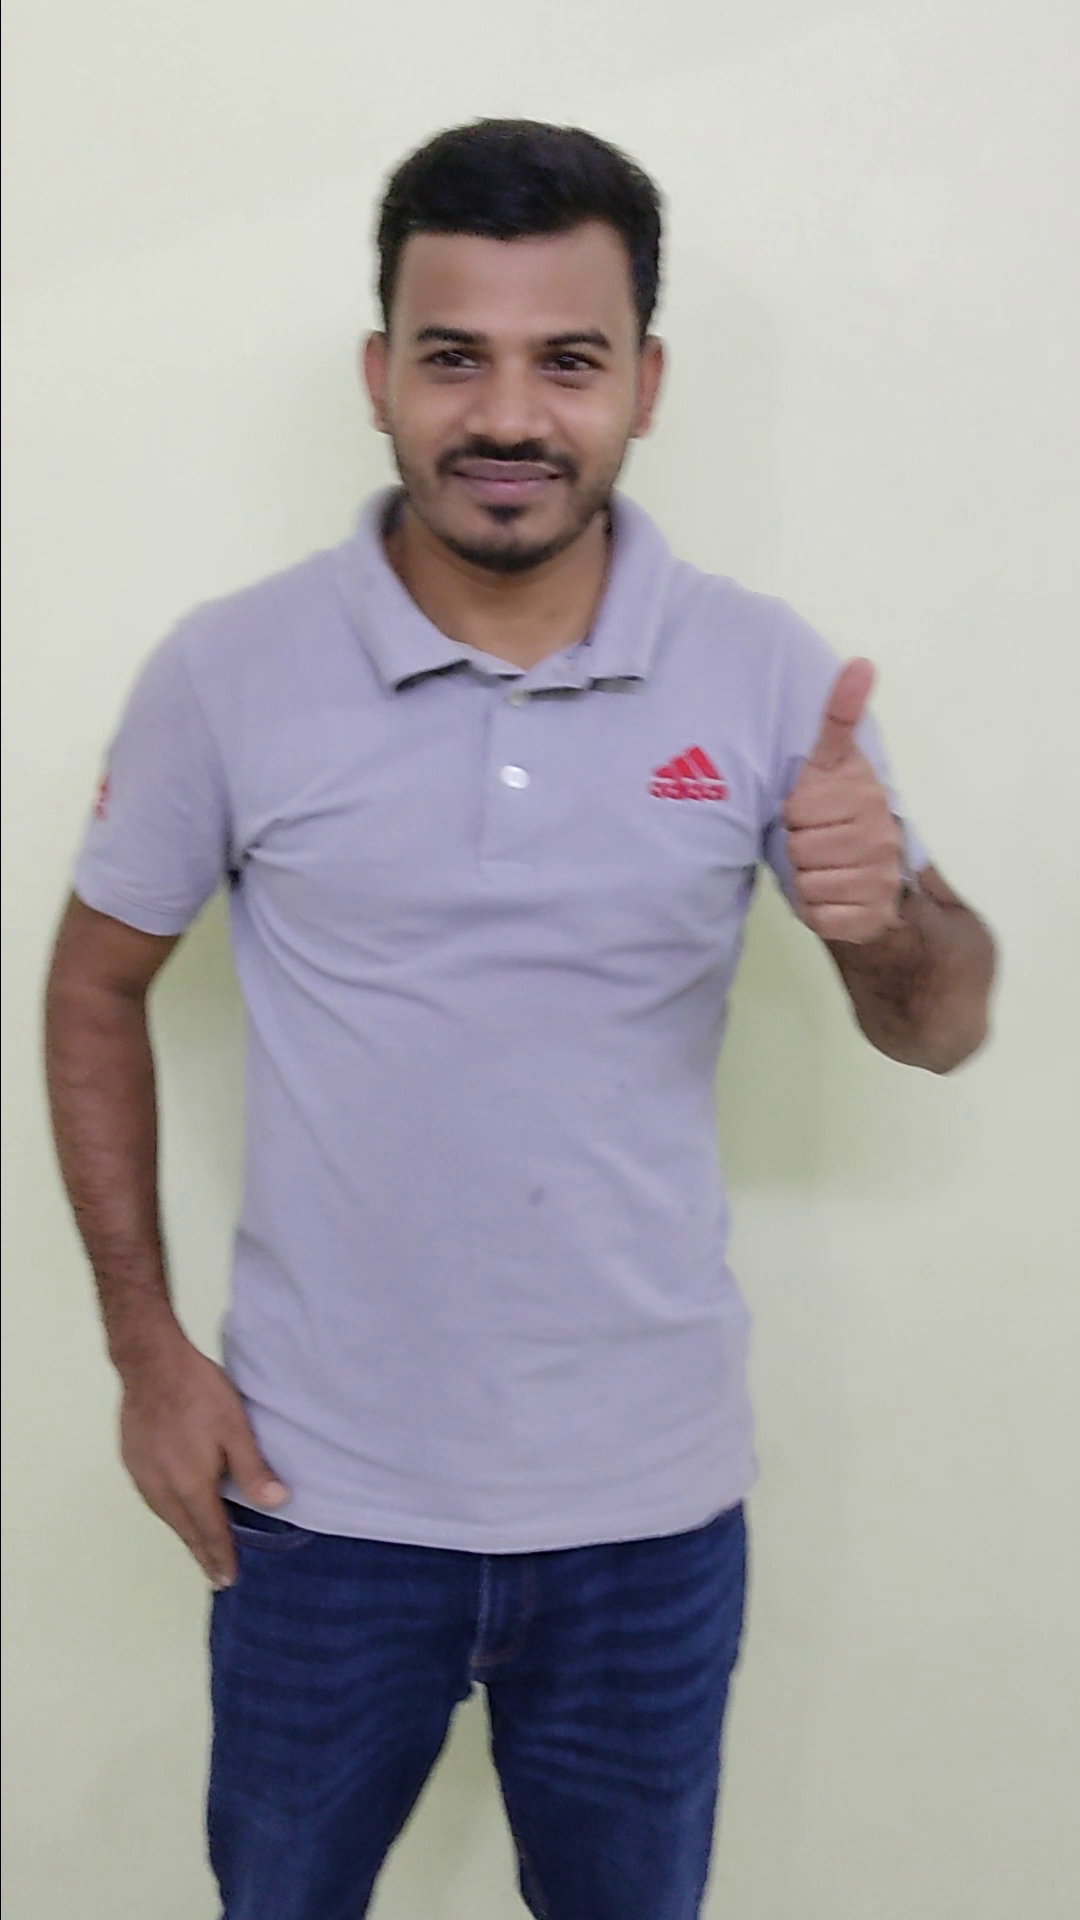Like: (733, 640, 949, 965)
None: (103, 1320, 305, 1611)
